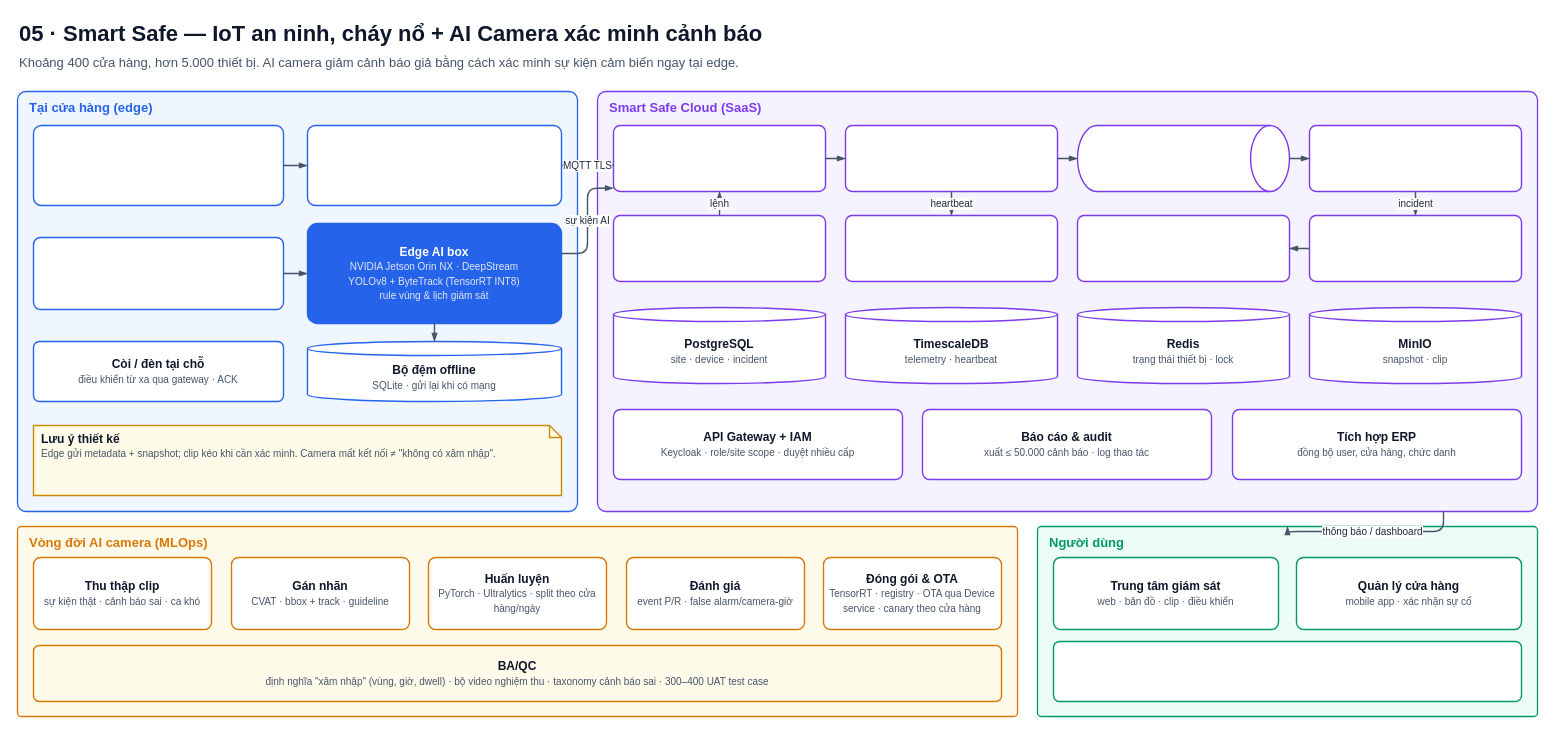
Some shapes in this 1556 by 734 pixel diagram are drawn without their labels. Each missing label, with the centre of its shape:
"Bảo vệ khu vực / supervisor nhận điều động · phụ trách hàng trăm điểm bán" belongs at (x=1287, y=671).
"Camera IP RTSP / ONVIF · H.265" belongs at (x=158, y=273).
"Command service lệnh xuống gateway · ACK · timeout · retry" belongs at (x=719, y=248).
"Cảm biến khói · nhiệt · gas · cửa từ · PIR · vỡ kính" belongs at (x=158, y=165).
"Device service heartbeat · online/offline · OTA model" belongs at (x=951, y=248).
"Event & rule engine tương quan cảm biến + camera · lịch" belongs at (x=1415, y=158).
"Incident service state machine · SLA xác nhận · escalation" belongs at (x=1415, y=248).
"Ingestion validate · dedup event_id · sequence_no" belongs at (x=951, y=158).
"IoT Gateway Zigbee/RF → 4G/Ethernet · heartbeat · nhận lệnh" belongs at (x=434, y=165).
"MQTT broker EMQX · TLS · ACL theo thiết bị" belongs at (x=719, y=158).
"Notification SMS · email · push FCM · Zalo ZNS · gọi" belongs at (x=1183, y=248).
"RabbitMQ event · command · DLQ" belongs at (x=1183, y=158).
